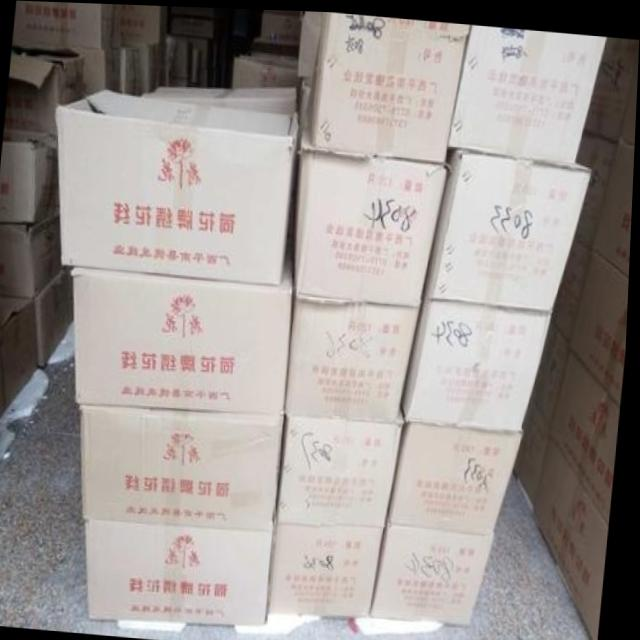box: (57, 87, 300, 284), (73, 248, 295, 414), (297, 94, 448, 305), (427, 143, 593, 309), (84, 406, 289, 528), (310, 9, 468, 158), (450, 21, 606, 158), (406, 287, 553, 428), (89, 521, 277, 624), (287, 293, 421, 420), (393, 417, 527, 534), (280, 405, 408, 523), (375, 522, 498, 625), (274, 520, 388, 617)
